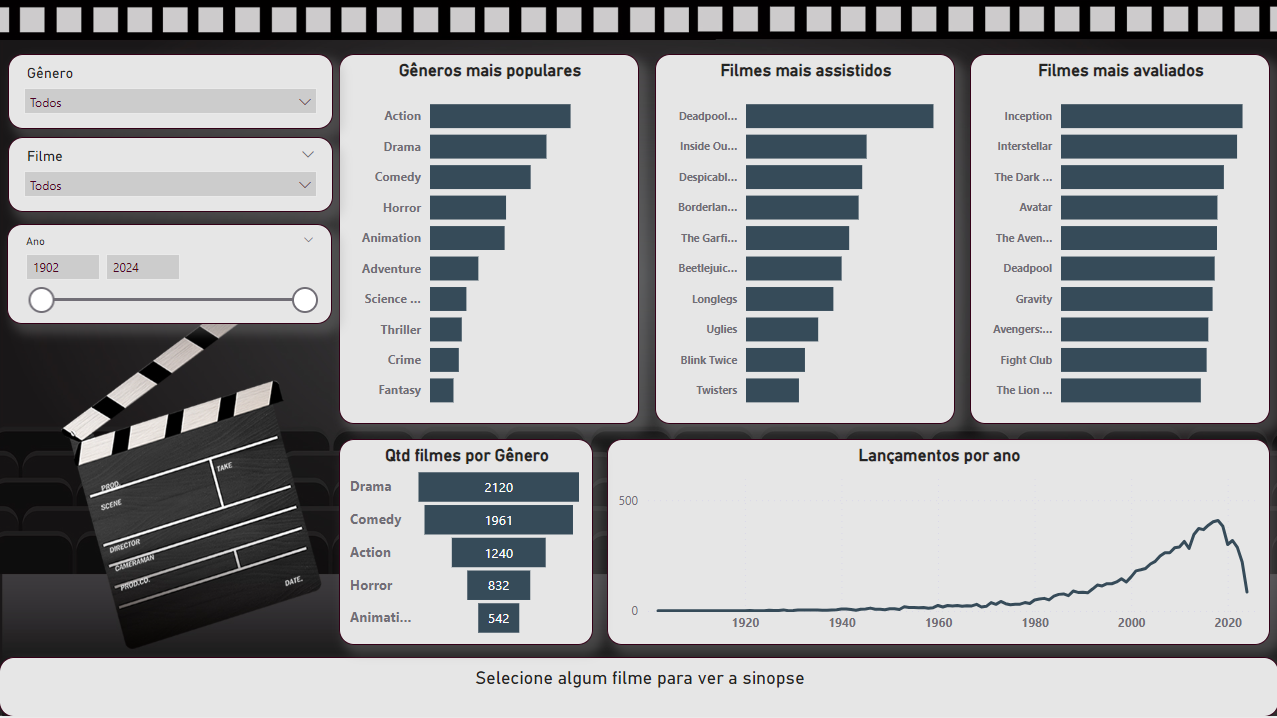

The page's visual inventory and layout, read from the dashboard file:
{"tool":"powerbi","page":{"name":"Página 1","canvas":[1280,720],"ordinal":0},"visuals":[{"type":"barChart","title":"Filmes mais assistidos","fields":{"Category":["FilmesDataSet.Titulo"],"Y":["Sum(FilmesDataSet.Popularidade)"]},"box":[655.9,58,300.3,369.7],"z":0},{"type":"barChart","title":"Gêneros mais populares","fields":{"Y":["Sum(FilmesDataSet.Popularidade)"],"Category":["FilmesDataSet.Gênero"]},"box":[339.8,58,300.3,369.7],"z":1},{"type":"lineChart","title":"Lançamentos por ano","fields":{"Y":["Medidas.Qtd filmes"],"Category":["FilmesDataSet.Data de Lançamento.Variation.Hierarquia de datas.Ano"]},"box":[607.6,443.4,663.8,205.5],"z":2},{"type":"card","fields":{"Values":["Medidas.FiltroAtivo"]},"box":[0,660.8,1280,59.7],"z":4},{"type":"funnel","fields":{"Y":["Medidas.Qtd filmes"],"Category":["FilmesDataSet.Gênero"]},"box":[339.8,443.4,254.6,205.5],"z":5},{"type":"barChart","title":"Filmes mais avaliados","fields":{"Category":["FilmesDataSet.Titulo"],"Y":["Sum(FilmesDataSet.Quantidade de Voto)"]},"box":[971.1,58,300.3,369.7],"z":6},{"type":"slicer","fields":{"Values":["FilmesDataSet.Gênero"]},"box":[8.8,58,324.9,75.5],"z":7},{"type":"slicer","fields":{"Values":["FilmesDataSet.Titulo"]},"box":[8.8,141.4,324.9,74.6],"z":8},{"type":"slicer","fields":{"Values":["FilmesDataSet.Data de Lançamento.Variation.Hierarquia de datas.Ano"]},"box":[8.3,227.7,324.9,100],"z":9}]}

Visuals, with their boxes in screenshot pixels (x1, y1, x2, y2), scaled from the page's 1280x720 canvas onto the 1277x718 screenshot:
"Filmes mais assistidos" barChart: <bbox>654, 58, 954, 427</bbox>
"Gêneros mais populares" barChart: <bbox>339, 58, 639, 427</bbox>
"Lançamentos por ano" lineChart: <bbox>606, 442, 1268, 647</bbox>
card - Medidas.FiltroAtivo: <bbox>0, 659, 1276, 717</bbox>
funnel - Medidas.Qtd filmes x FilmesDataSet.Gênero: <bbox>339, 442, 593, 647</bbox>
"Filmes mais avaliados" barChart: <bbox>969, 58, 1268, 427</bbox>
slicer - FilmesDataSet.Gênero: <bbox>9, 58, 333, 133</bbox>
slicer - FilmesDataSet.Titulo: <bbox>9, 141, 333, 215</bbox>
slicer - FilmesDataSet.Data de Lançamento.Variation.Hierarquia de datas.Ano: <bbox>8, 227, 332, 327</bbox>
